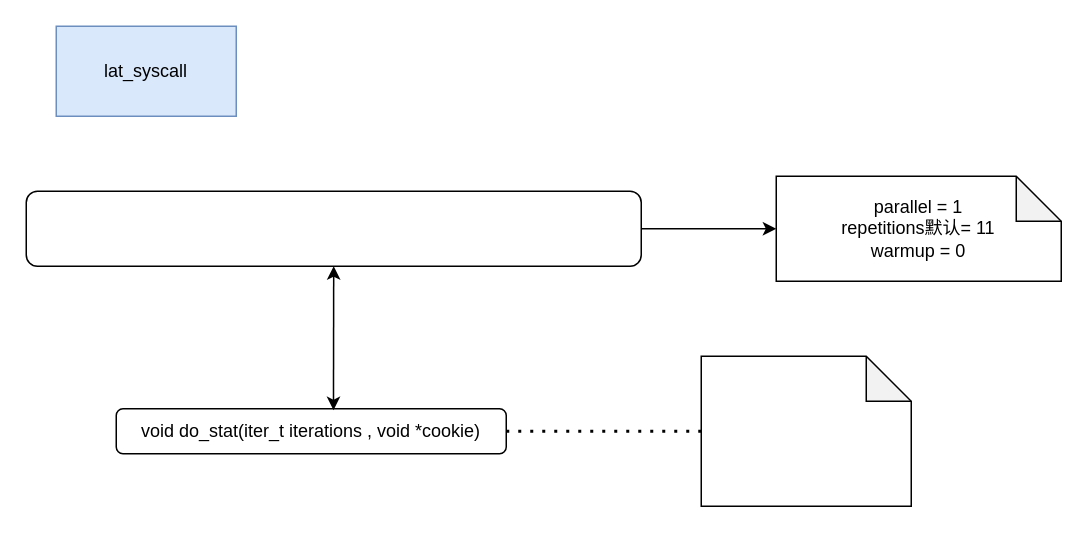
This 1088x533 diagram has some shape labels left out. The shapes that lost their labels are listed below. From the top down, each one's centre as x and y in pixels, then its label:
At [333,228]: "benchmp(NULL, do_stat, NULL, 0, parallel, warmup, repetitions, &state);".
At [805,430]: "iterations 迭代次数".
